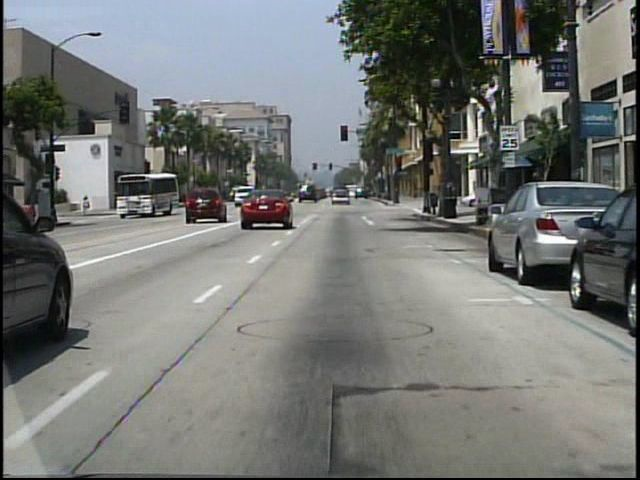person: (84, 194, 92, 215)
